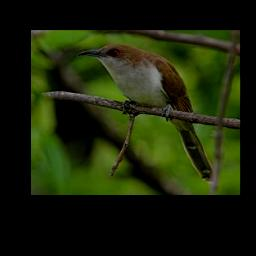Cuckoo: (76, 43, 213, 182)
